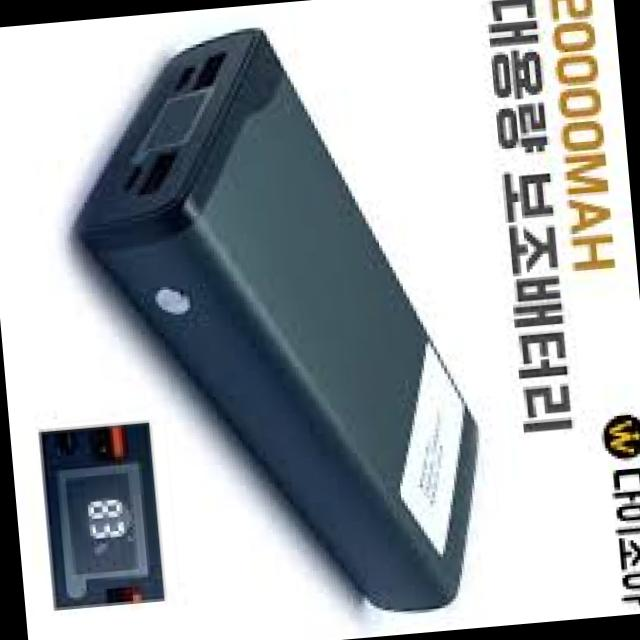power_bank: (54, 11, 494, 638)
